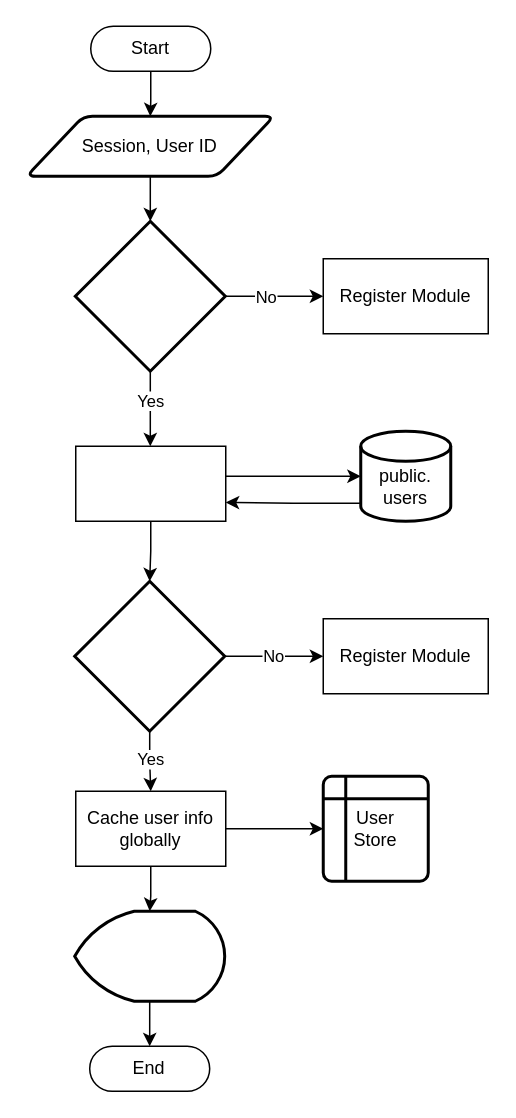
The diagram is 516 pixels wide and 1118 high, and some of its shapes have lost their labels. The shapes that lost their labels are listed below. From the top down, each one's centre as x and y in pixels, then its label:
(x=149, y=295): Session valid?
(x=150, y=483): Fetch User Info w/ User ID
(x=148, y=655): User has information?
(x=148, y=955): Application
